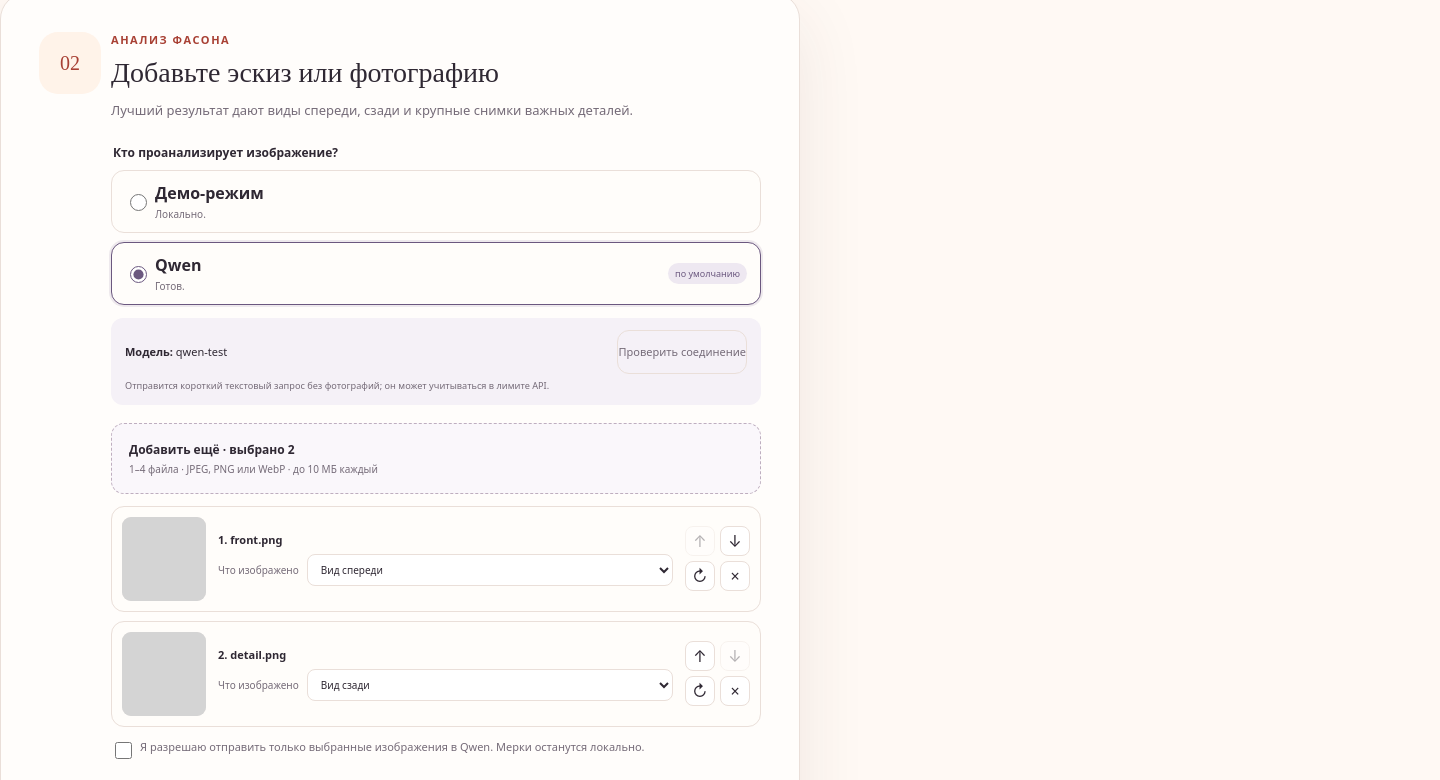
stage 23 photo and AI workspace › retries analysis with stored refs and sends ordered view labels only once
Earlier steps of the test are not shown.
Later steps or results of the test are not shown.
Select "Крупная деталь" in the dropdown named "вид изображения 2" at (490,685), box [307, 669, 673, 701]
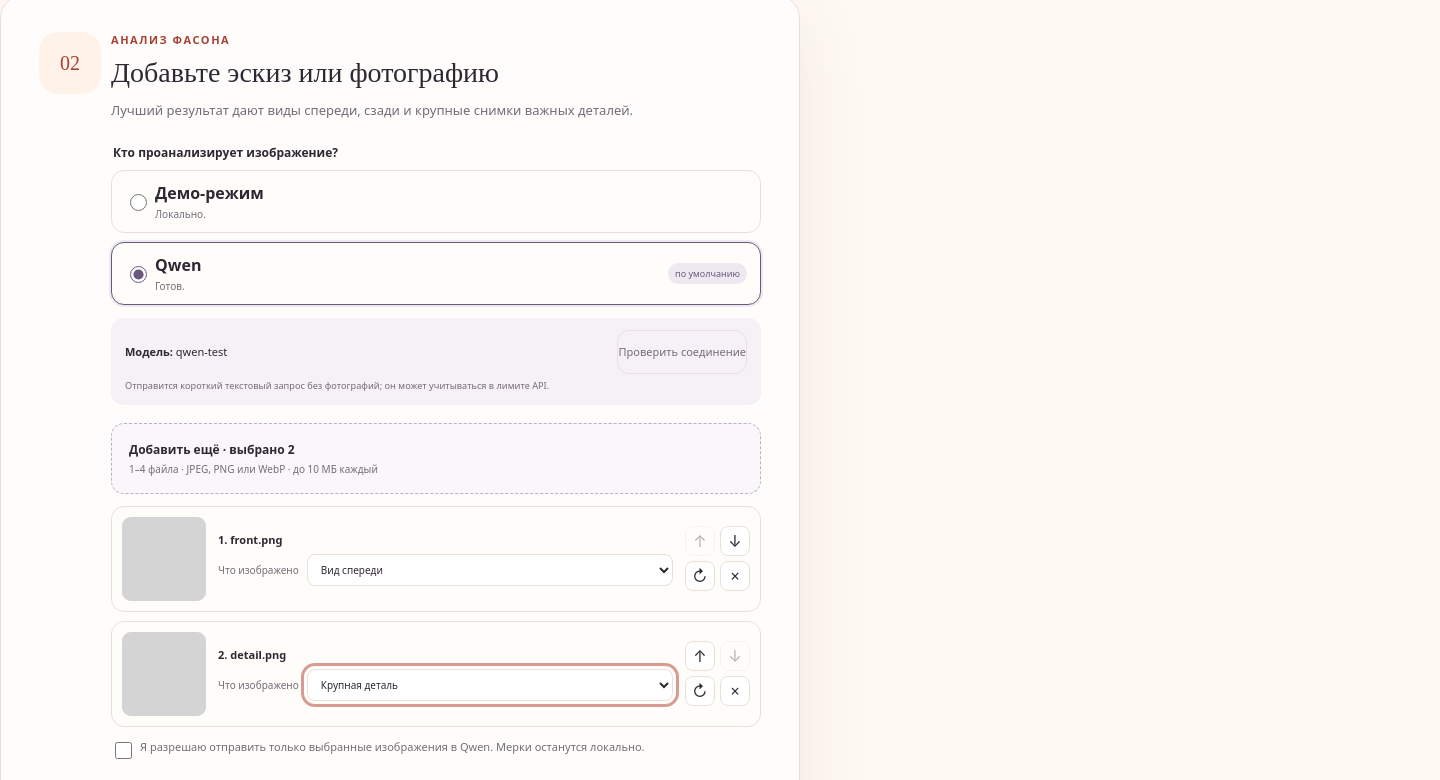
Click the checkbox at (124,750), box [115, 742, 132, 759]
(page scrolled)
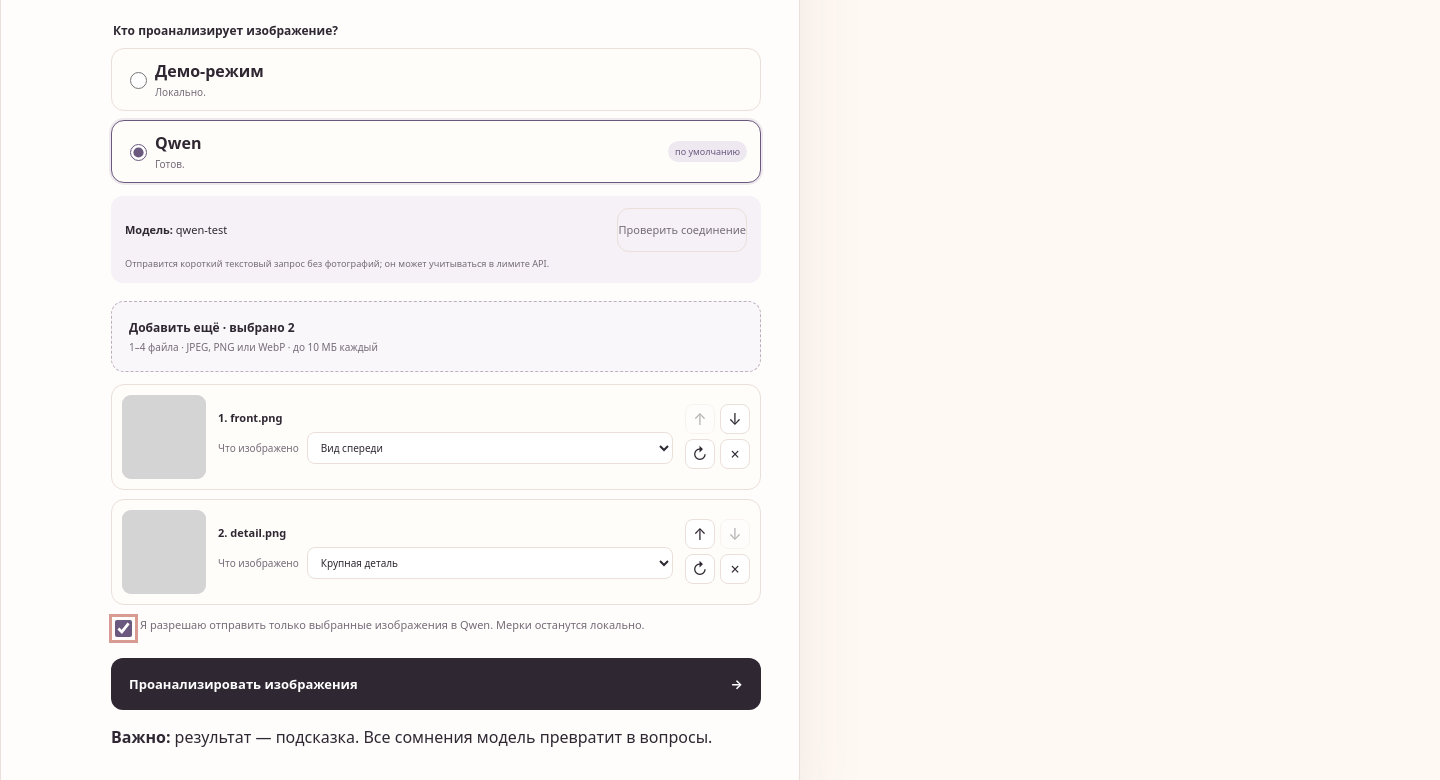
Click the button "Проанализировать изображения →" at (243,684), box [111, 658, 761, 710]
(page scrolled)
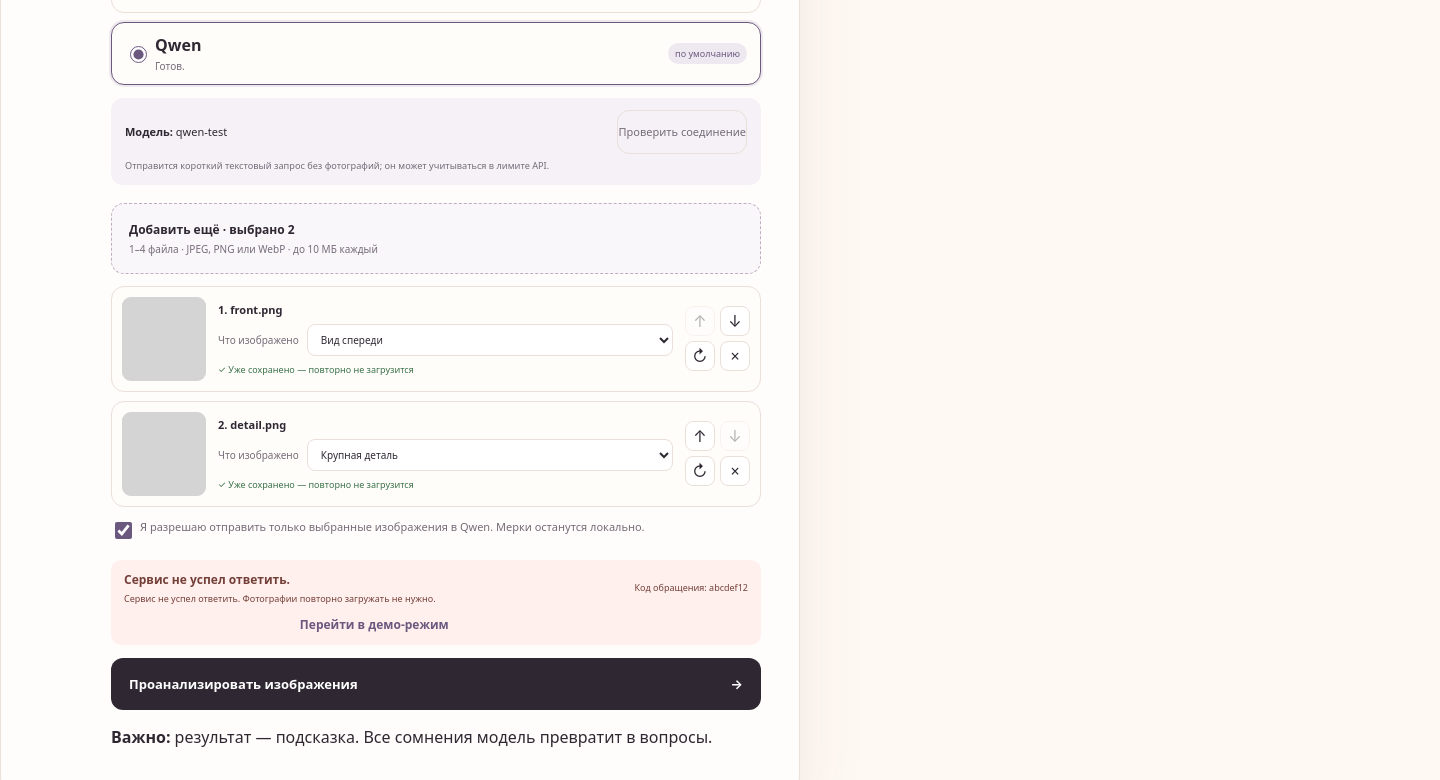
Now the message shows "Фотографии повторно загружать не нужно", box [124, 592, 436, 605]
Now the text "✓ Уже сохранено — повторно не загрузится" is shown 2 times, box [218, 363, 414, 376]; [218, 478, 414, 491]
